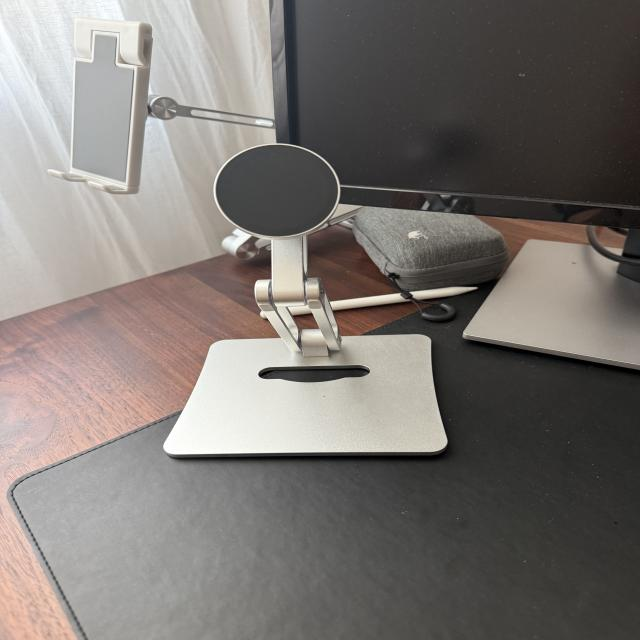phone holder: (130, 126, 461, 469)
